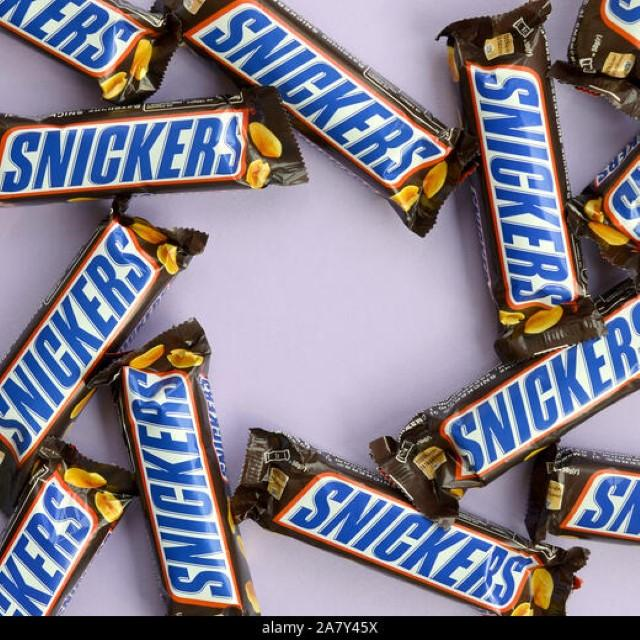snickers_chocolate: (252, 453, 578, 610), (418, 308, 637, 505), (0, 230, 203, 436), (456, 25, 586, 332), (103, 320, 230, 632), (212, 13, 433, 167), (0, 105, 266, 208)
